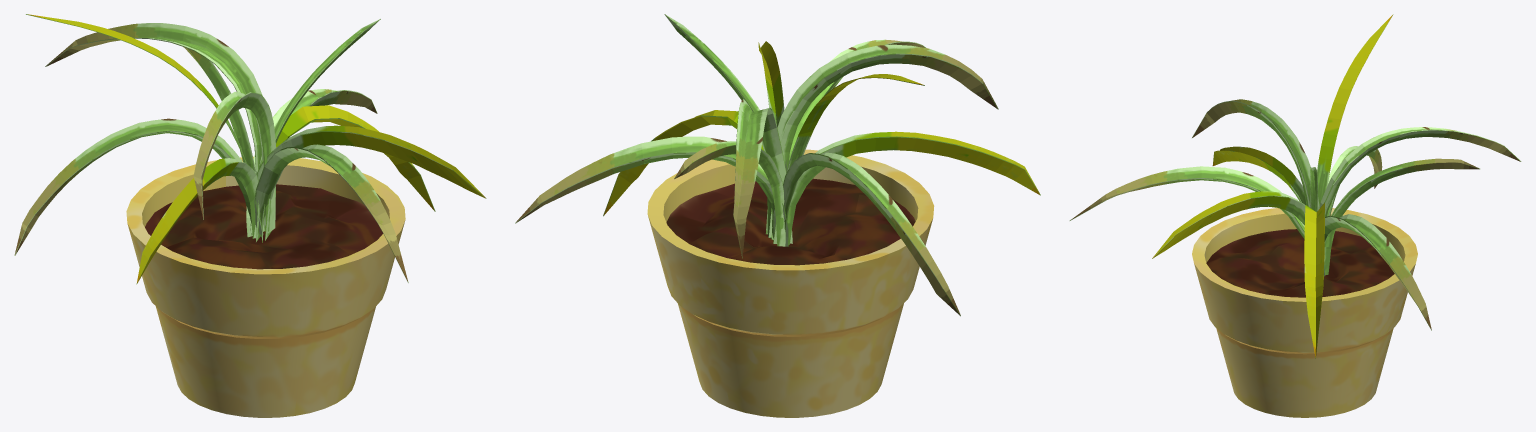
File: Chlorophytum_Bad_End.glb
The picture shows the model from 3 angles, left to right: view 1: azimuth 30°, elevation 25°; view 2: azimuth 150°, elevation 25°; view 3: azimuth 270°, elevation 25°; orthographic projection. The views are drawn at different scales.
Visible parts, largest first — view 1: Pot, Plant; view 2: Pot, Plant; view 3: Pot, Plant.
Part boxes in pixels (bbox=[...]): Pot: bbox=[126, 156, 405, 417]; Plant: bbox=[14, 14, 486, 284]; Pot: bbox=[647, 149, 934, 417]; Plant: bbox=[515, 14, 1040, 316]; Pot: bbox=[1192, 208, 1417, 417]; Plant: bbox=[1069, 14, 1521, 358].
Bounding box in the file's own units: 3.37 × 3 × 4.1.
4 materials, 4 textured.
